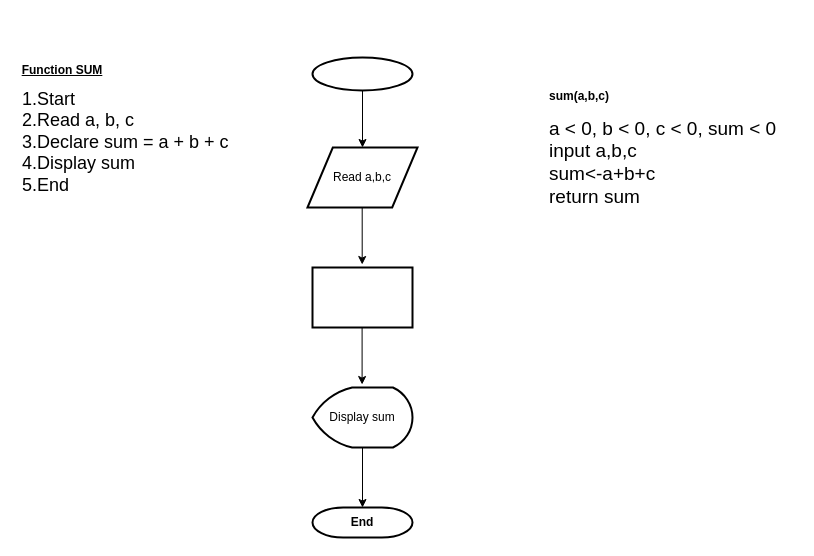
Some shapes in this 814 by 556 pixel diagram are drawn without their labels. The shapes that lost their labels are listed below. From the top down, each one's centre as x and y in pixels, then its label:
the point at 362,73: Start
the point at 362,297: sum = a + b +c
